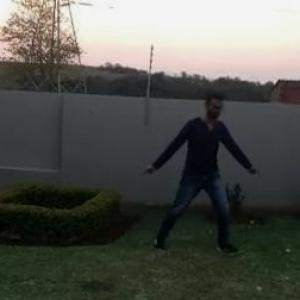land: (140, 75, 266, 260)
